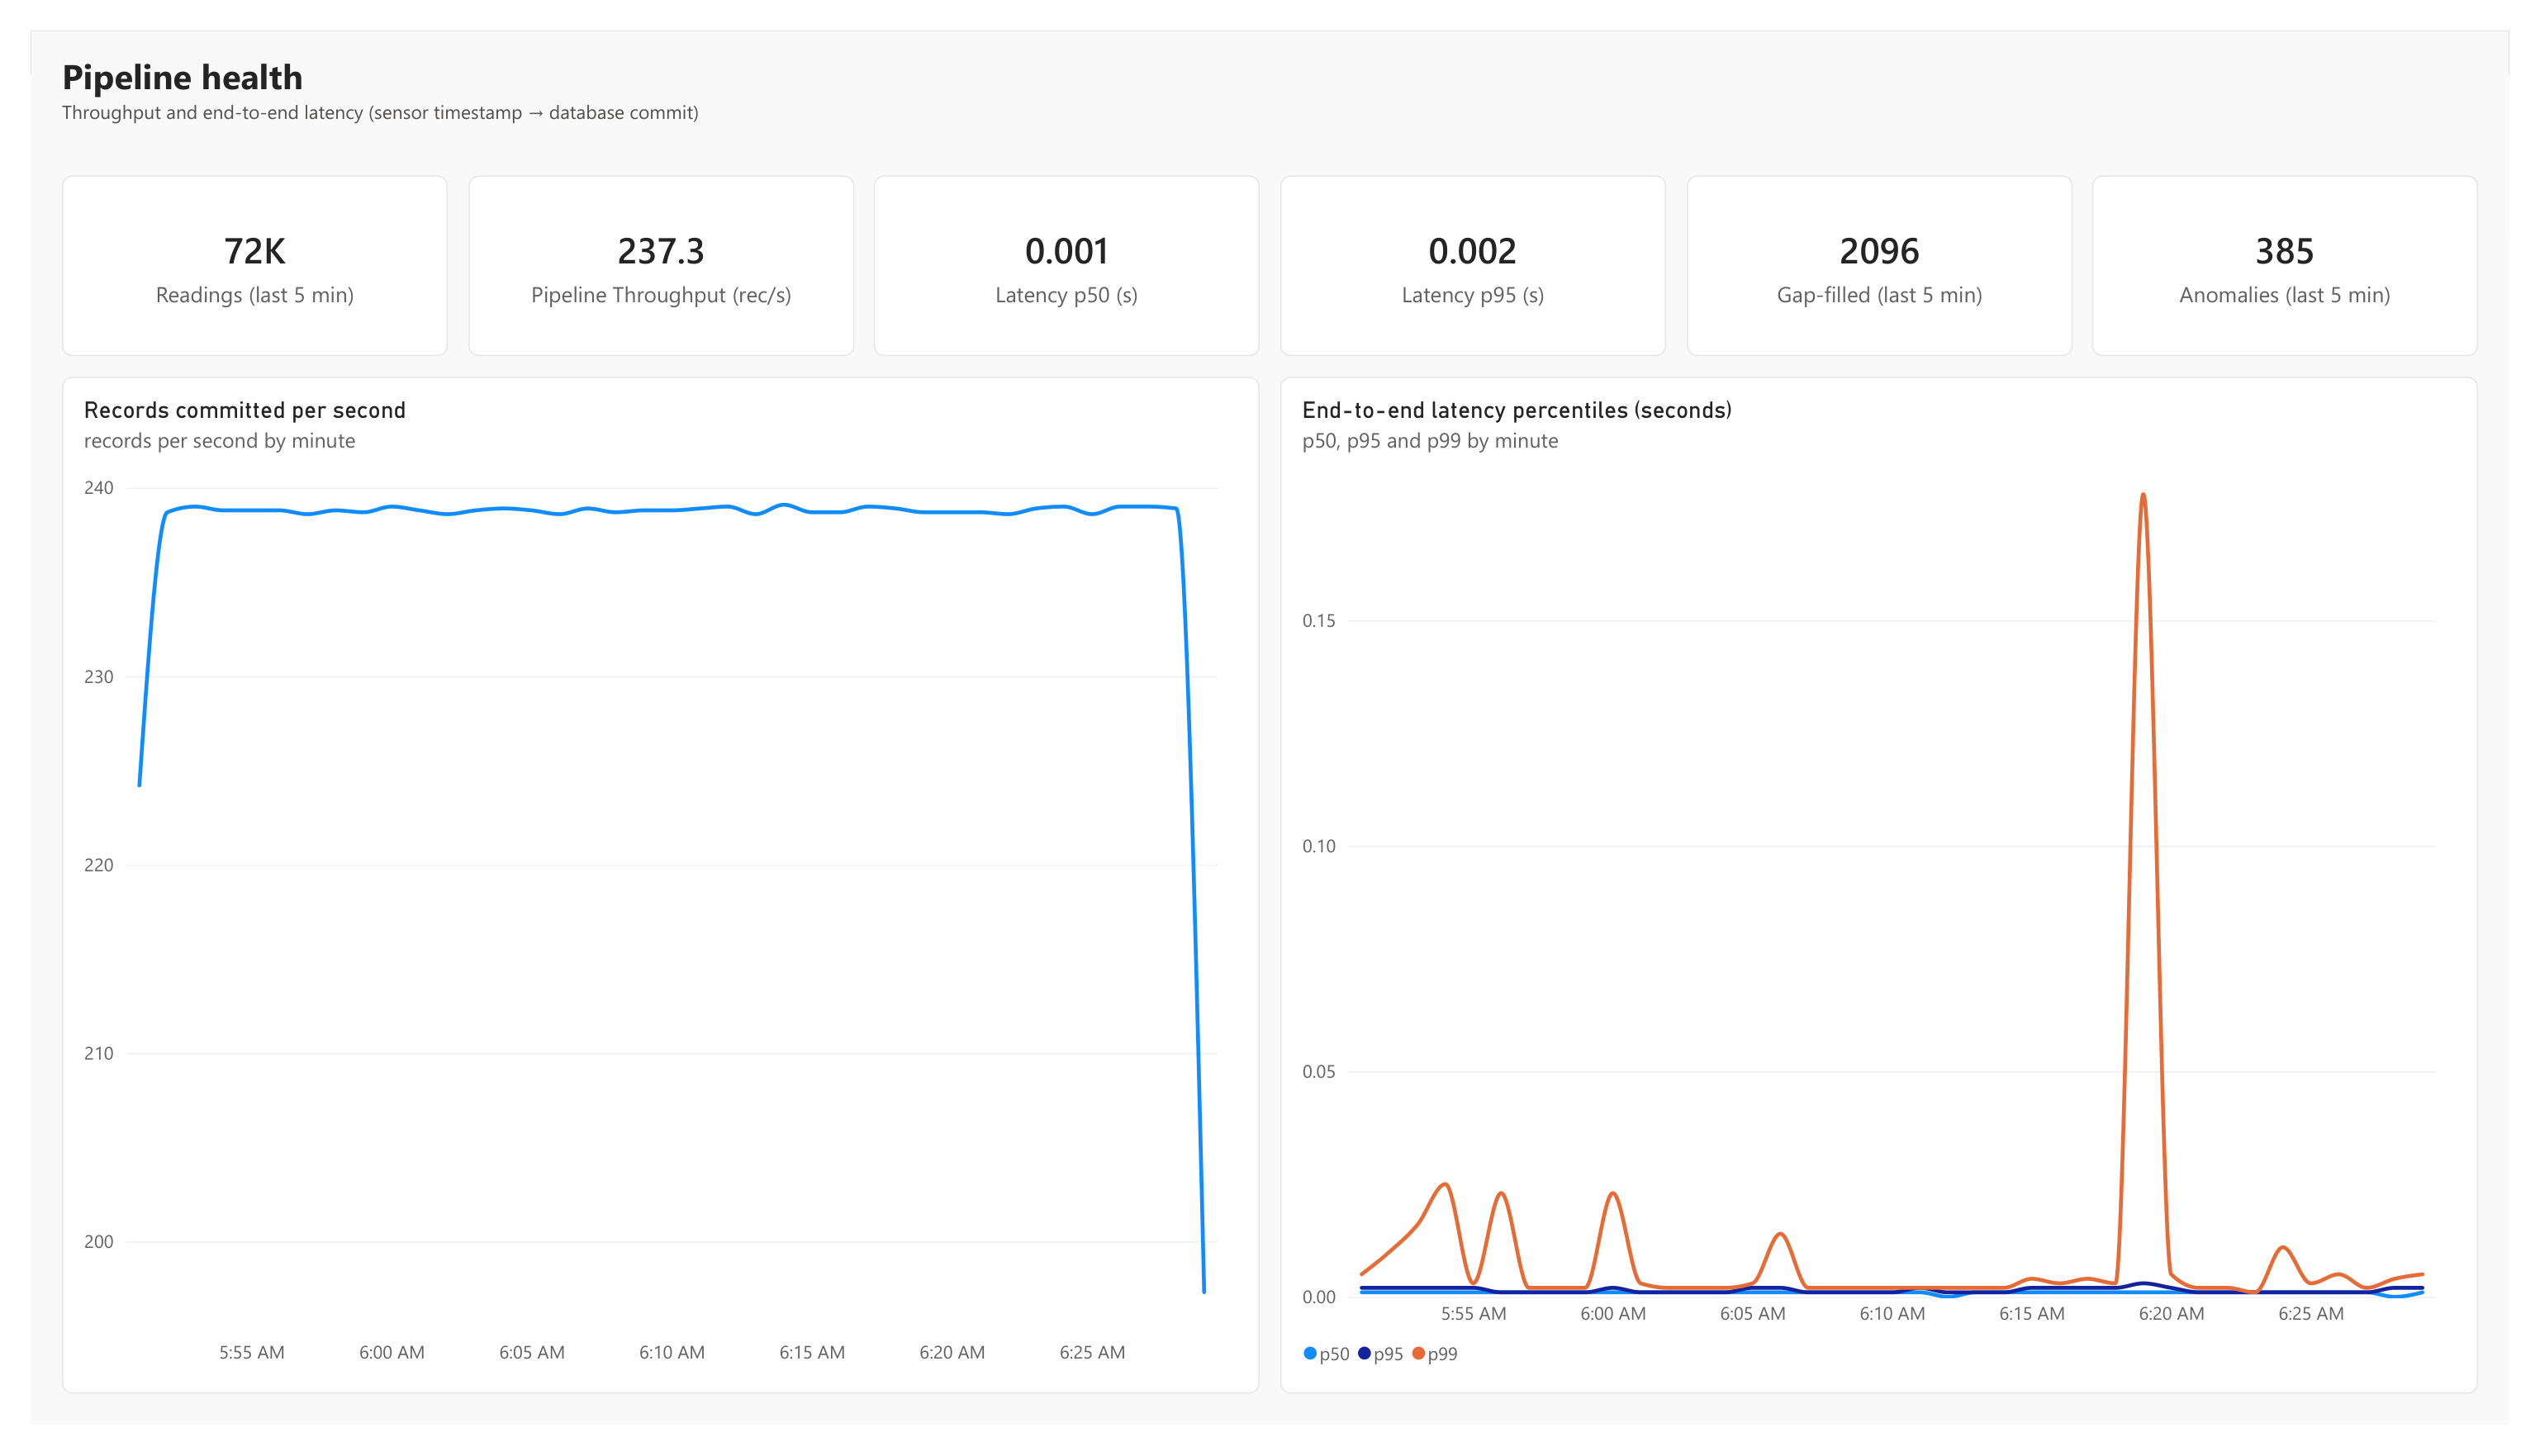

Layout of this report page (visuals, bound fields, positions):
{"tool":"powerbi","page":{"name":"Pipeline","canvas":[1920,1080],"ordinal":3},"visuals":[{"type":"textbox","box":[24,16,1400,80],"z":0},{"type":"card","fields":{"Values":["Max(bi kpi_now.readings_5m)"]},"box":[24,112,299,140],"z":1000},{"type":"card","fields":{"Values":["bi fact_1m.Pipeline Throughput (rec/s)"]},"box":[339,112,299,140],"z":2000},{"type":"card","fields":{"Values":["bi fact_1m.Latency p50 (s)"]},"box":[653,112,299,140],"z":3000},{"type":"card","fields":{"Values":["bi fact_1m.Latency p95 (s)"]},"box":[968,112,299,140],"z":4000},{"type":"card","fields":{"Values":["Max(bi kpi_now.gap_filled_5m)"]},"box":[1283,112,299,140],"z":5000},{"type":"card","fields":{"Values":["Max(bi kpi_now.anomalies_5m)"]},"box":[1597,112,299,140],"z":6000},{"type":"lineChart","title":"Records committed per second","fields":{"Category":["bi pipeline_1m.minute"],"Y":["Avg(bi pipeline_1m.records_per_s)"]},"box":[24,268,928,788],"z":7000},{"type":"lineChart","title":"End-to-end latency percentiles (seconds)","fields":{"Category":["bi pipeline_1m.minute"],"Y":["Avg(bi pipeline_1m.latency_p50_s)","Avg(bi pipeline_1m.latency_p95_s)","Avg(bi pipeline_1m.latency_p99_s)"]},"box":[968,268,928,788],"z":8000}]}

Visuals, with their boxes on the page's 1920x1080 design canvas (x1, y1, x2, y2). These are canvas units, not pixel positions in the 2540x1456 screenshot, which may show the page scaled, cropped or inside an application window:
textbox: crop(24, 16, 1424, 96)
card - Max(bi kpi_now.readings_5m): crop(24, 112, 323, 252)
card - bi fact_1m.Pipeline Throughput (rec/s): crop(339, 112, 638, 252)
card - bi fact_1m.Latency p50 (s): crop(653, 112, 952, 252)
card - bi fact_1m.Latency p95 (s): crop(968, 112, 1267, 252)
card - Max(bi kpi_now.gap_filled_5m): crop(1283, 112, 1582, 252)
card - Max(bi kpi_now.anomalies_5m): crop(1597, 112, 1896, 252)
"Records committed per second" lineChart: crop(24, 268, 952, 1056)
"End-to-end latency percentiles (seconds)" lineChart: crop(968, 268, 1896, 1056)
